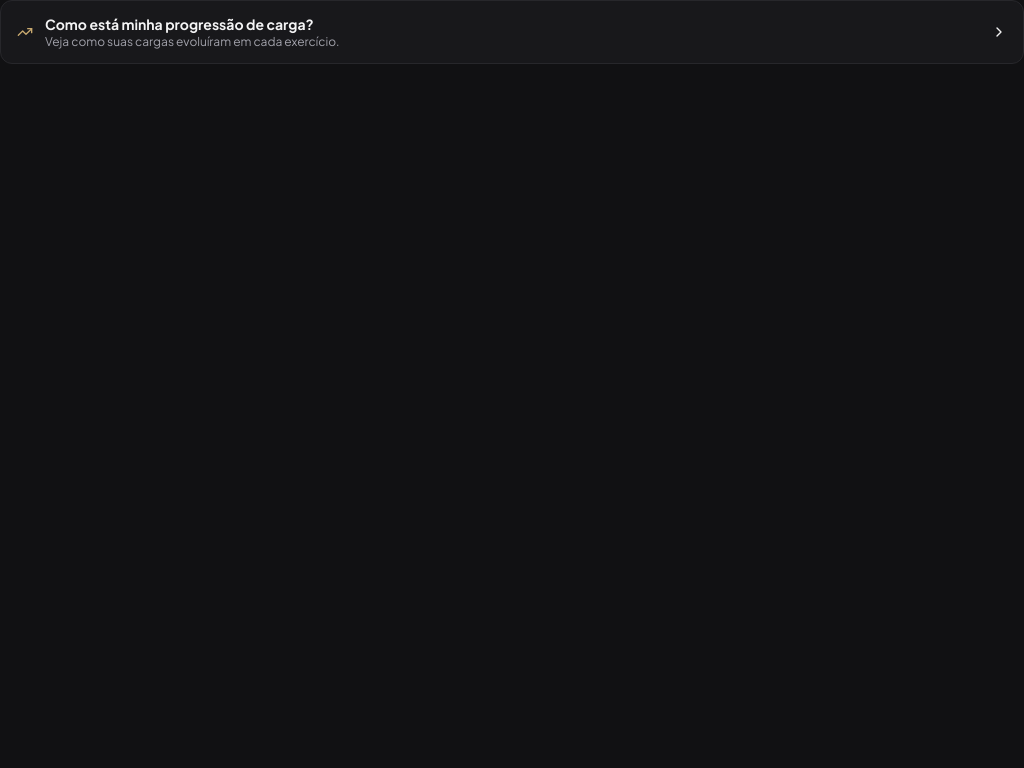
progressão acompanha a semana que o aluno está vendo › sem escolha manual segue a semana atual do sistema
What coordinates should you click on to do the following:
click the text "Como está minha progressão de carga?"
I would click on:
 (179, 24)
Its box is [45, 15, 314, 33].
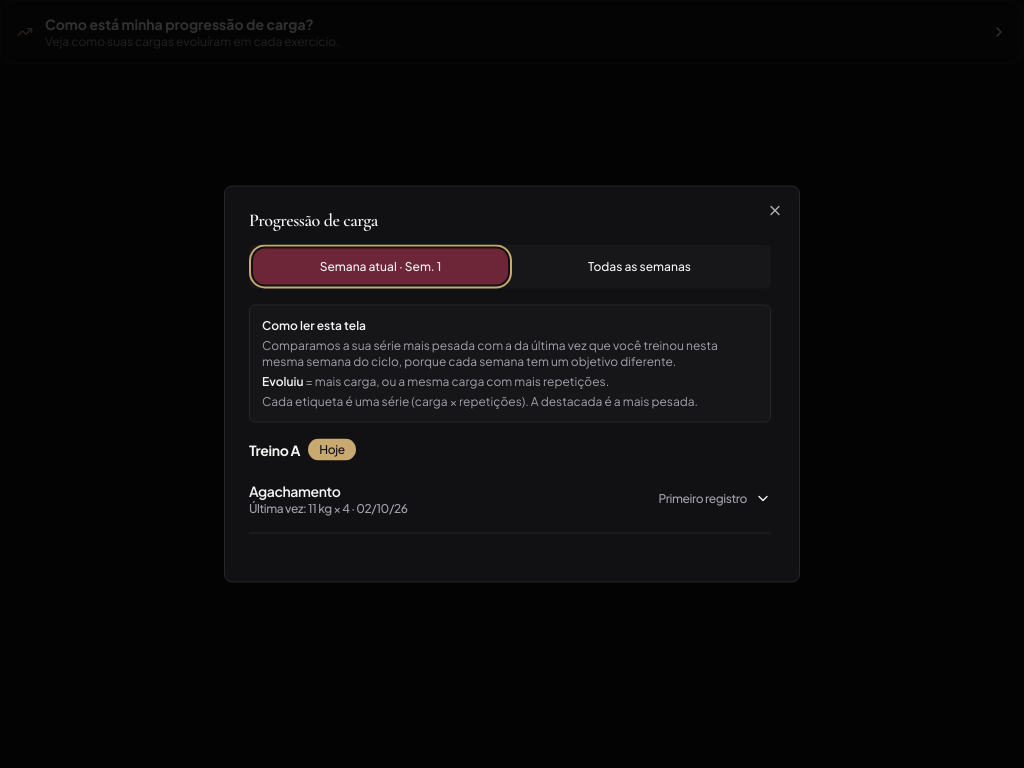
Expected: the text "Agachamento" is shown, [249, 482, 340, 500]
Expected: the button "Semana atual · Sem. 1" is shown, [253, 248, 508, 284]
Expected: the text "Última vez: 11 kg × 4 · 02/10/26" is shown, [249, 500, 408, 516]
